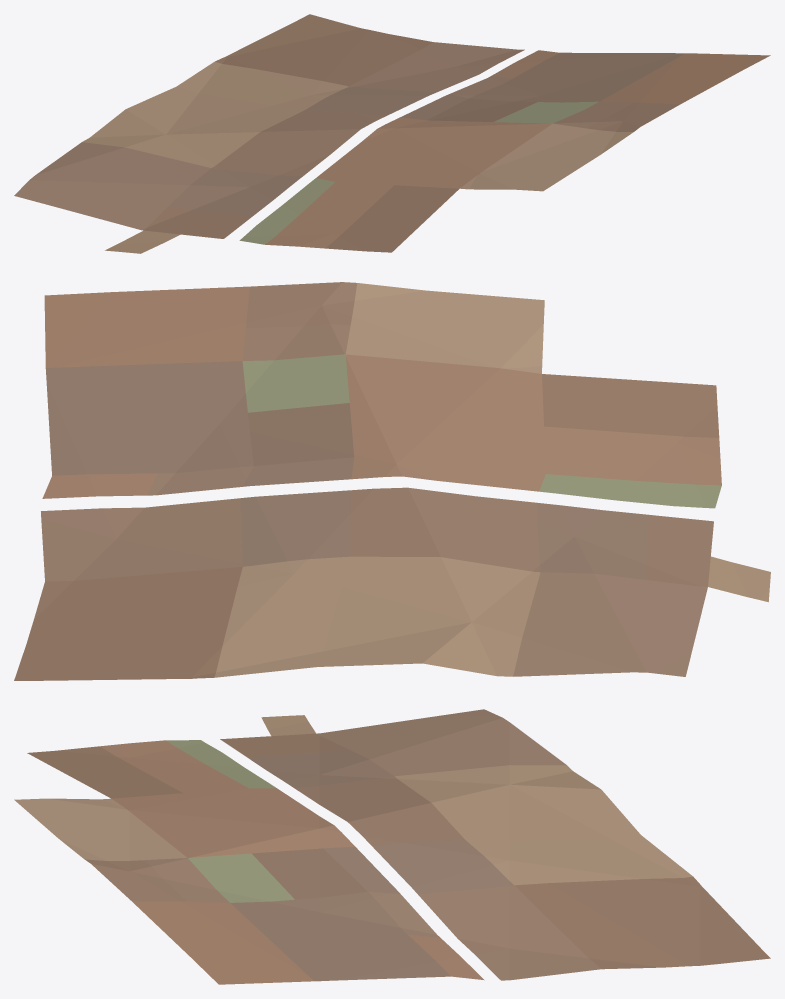
Rendered from farm_-28_-32_soil.glb.
3 renders of one model, top to bottom at view 1: azimuth 30°, elevation 25°; view 2: azimuth 150°, elevation 25°; view 3: azimuth 270°, elevation 25°, orthographic. The views are drawn at different scales.
Parts seen in each view (by area): view 1: geometry_0; view 2: geometry_0; view 3: geometry_0.
Part boxes in pixels (box(x1,y1,x2,y2)): geometry_0: box(14, 14, 770, 253); geometry_0: box(14, 282, 770, 680); geometry_0: box(14, 709, 770, 984).
Size of the model in its own units: 353 by 52.04 by 319.
